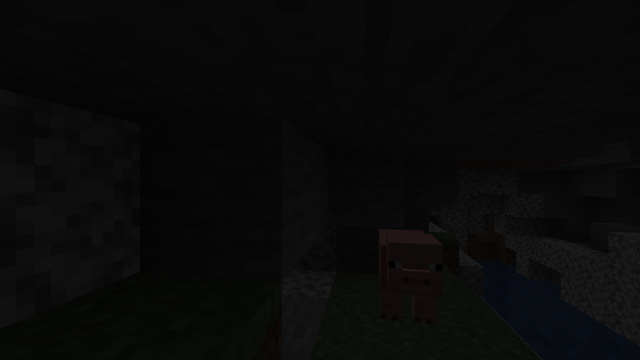cochons: (368, 227, 451, 326)
